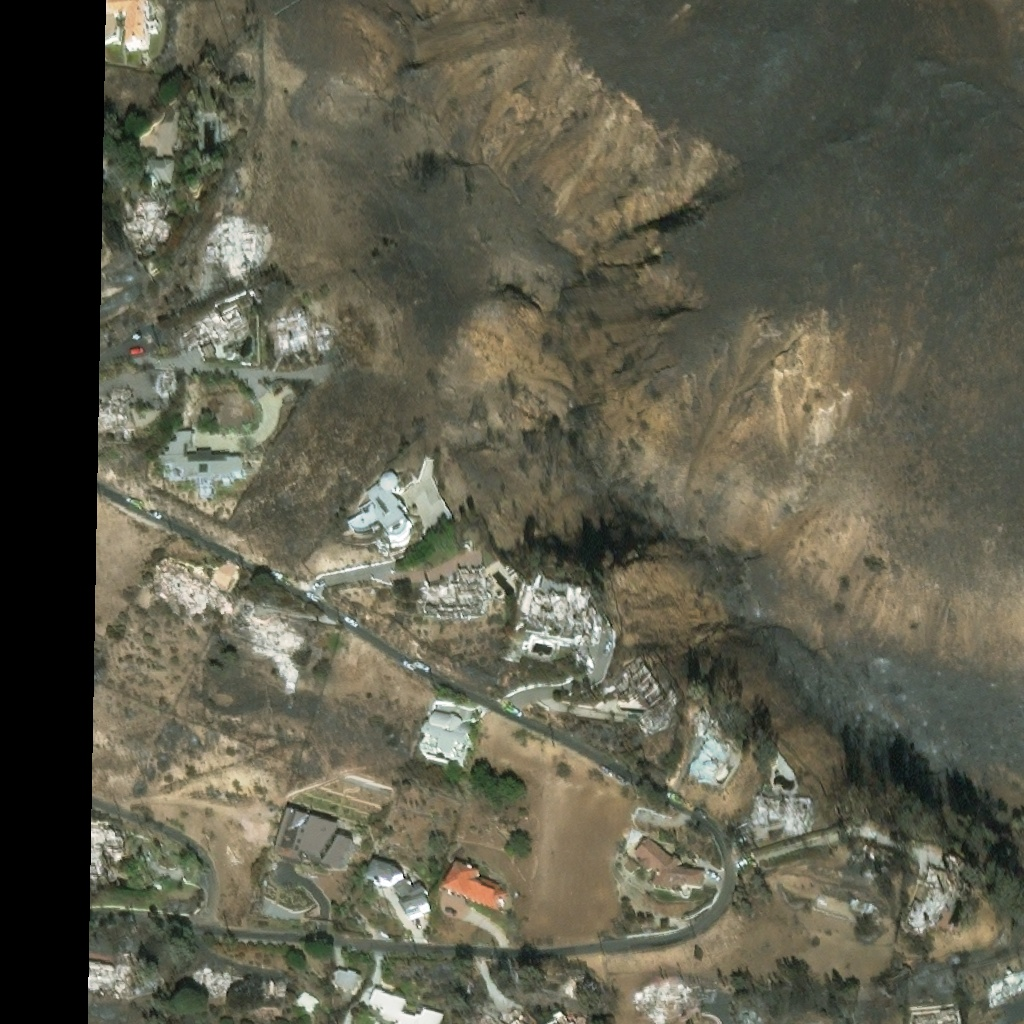0 no-damage: (366, 986, 444, 1023)
